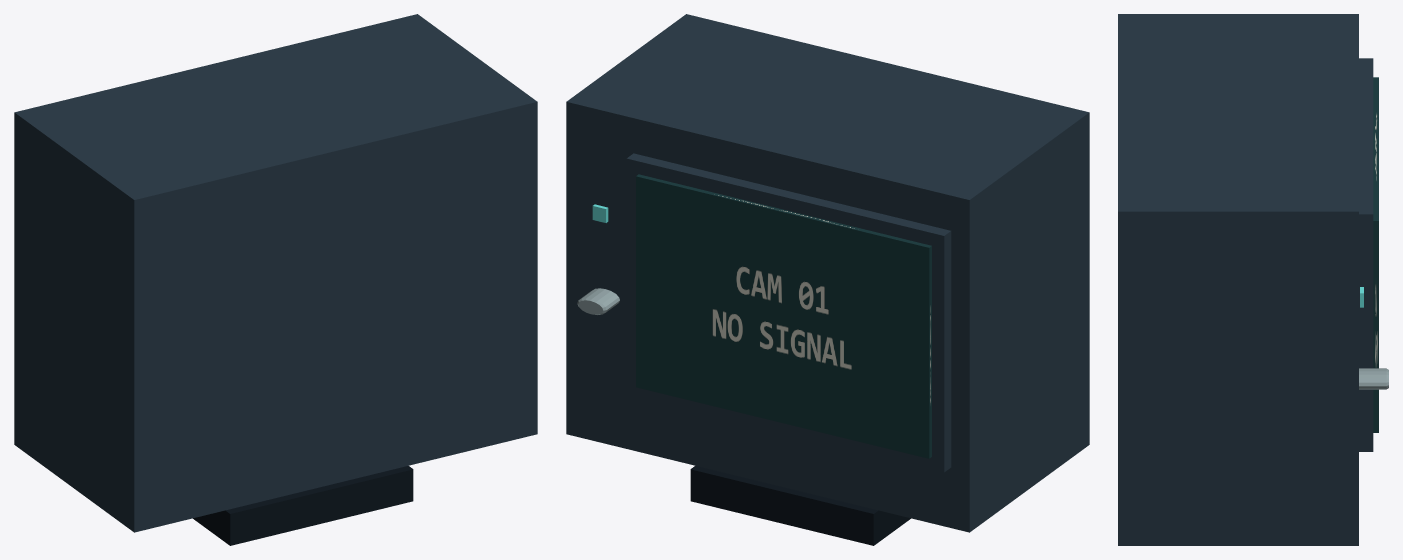
Rendered from horror_monitor.obj.
The picture shows the model from 3 angles, left to right: view 1: azimuth 30°, elevation 25°; view 2: azimuth 150°, elevation 25°; view 3: azimuth 270°, elevation 25°; orthographic projection.
Visible parts, largest first — view 1: Housing, Stand; view 2: Housing, ScreenFace, ScreenFrame, Stand, Dial; view 3: Housing, ScreenFrame, ScreenFace, Dial.
Boxes of the visible parts, x1=… form: Housing: x1=14, y1=14, x2=537, y2=532; Stand: x1=193, y1=466, x2=413, y2=545; Housing: x1=566, y1=14, x2=1089, y2=532; ScreenFace: x1=636, y1=174, x2=931, y2=458; ScreenFrame: x1=626, y1=153, x2=951, y2=472; Stand: x1=690, y1=466, x2=910, y2=545; Dial: x1=577, y1=288, x2=619, y2=314; Housing: x1=1118, y1=14, x2=1358, y2=545; ScreenFrame: x1=1359, y1=58, x2=1373, y2=451; ScreenFace: x1=1373, y1=77, x2=1378, y2=432; Dial: x1=1359, y1=368, x2=1388, y2=389.
Bounding box in the file's own units: 3.3 × 3 × 1.91.
7 materials, 1 textured.
